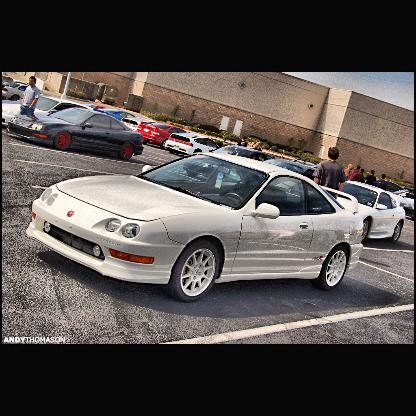Acura Integra Type R 2001: (27, 152, 365, 303)
